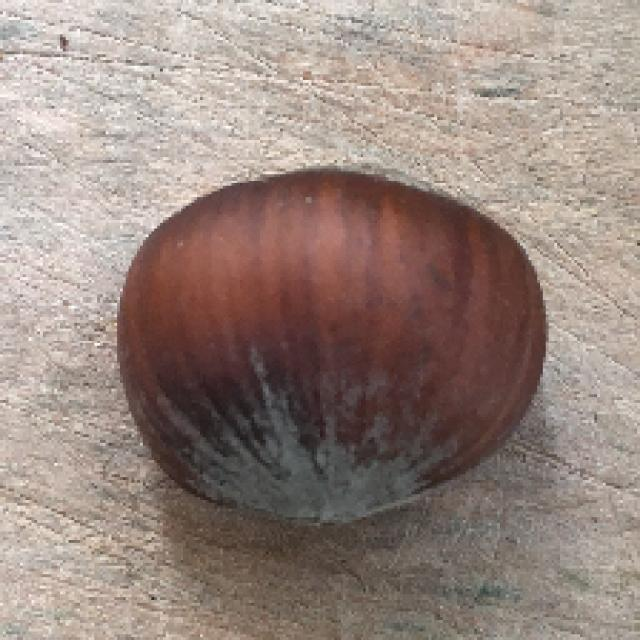DamagedHazelnut: (112, 165, 551, 525)
